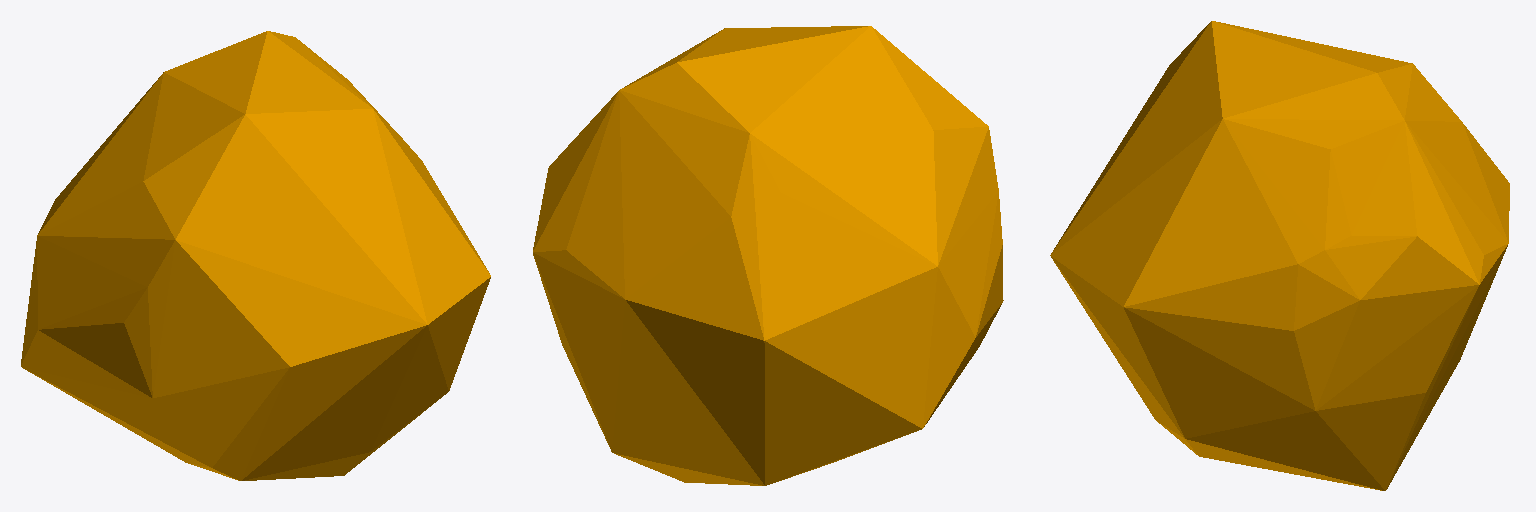
robot.urdf — 055_010_9555:
<?xml version="1.0"?>
<robot name="055_010_9555">
  <link name="link">
    <contact>
      <lateral_friction value="0.6"/>
    </contact>
    <inertial>
      <mass value = "1.1320922784623653"/>
      <inertia ixx="0.0010943113122095496" ixy="9.195657749414578e-20" ixz="1.7984537072916714e-19" iyy="0.0011340060192264693" iyz="3.6064990649670733e-20" izz="0.001138757844996616" />
    </inertial>
    <visual name="visual">
      <geometry>
        <mesh filename="055_010_9555.obj"/>
      </geometry>
    </visual>
    <collision name="collision">
      <geometry>
        <mesh filename="055_010_9555.obj"/>
      </geometry>
    </collision>
  </link>
</robot>

--- Render facts (derived) ---
3 views of the same robot in one strip: view 1: azimuth 30°, elevation 25°; view 2: azimuth 150°, elevation 25°; view 3: azimuth 270°, elevation 25° (orthographic).
Robot: 055_010_9555 — 1 links, 0 joints (none); root link link; default pose: every joint at zero.
Links seen in each view (by area): view 1: link; view 2: link; view 3: link.
Boxes of the visible links, x1,y1,x2,y2 form: link: (21, 31, 490, 480); link: (533, 26, 1003, 485); link: (1050, 21, 1509, 490).
Bounding box of the posed robot: 0.1034 × 0.1042 × 0.1011 m (x, y, z).
1 mesh visuals loaded from 1 distinct referenced files (1 OBJ).
